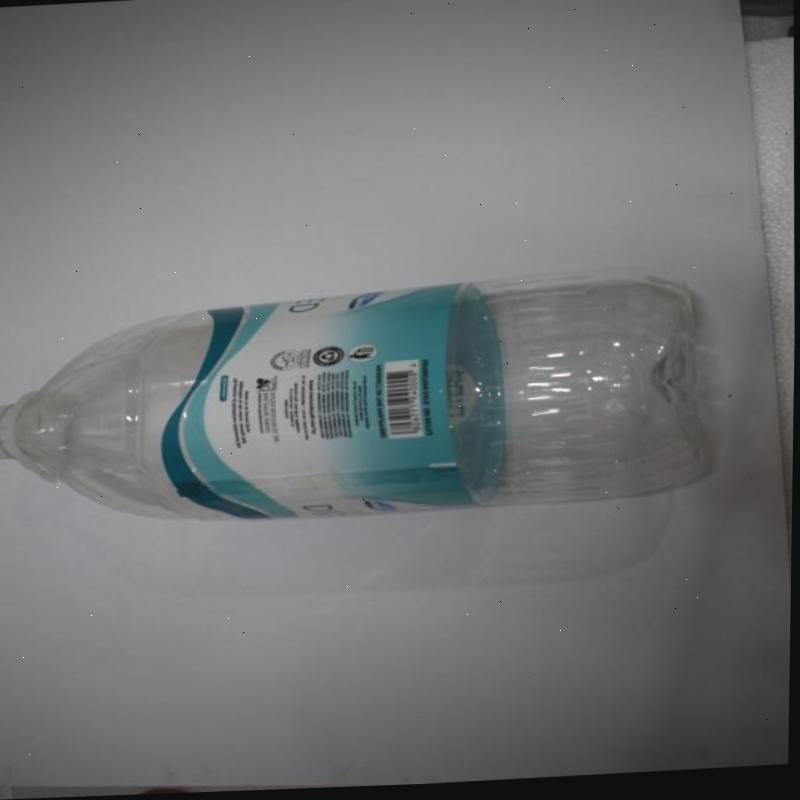botella: (0, 275, 720, 539)
